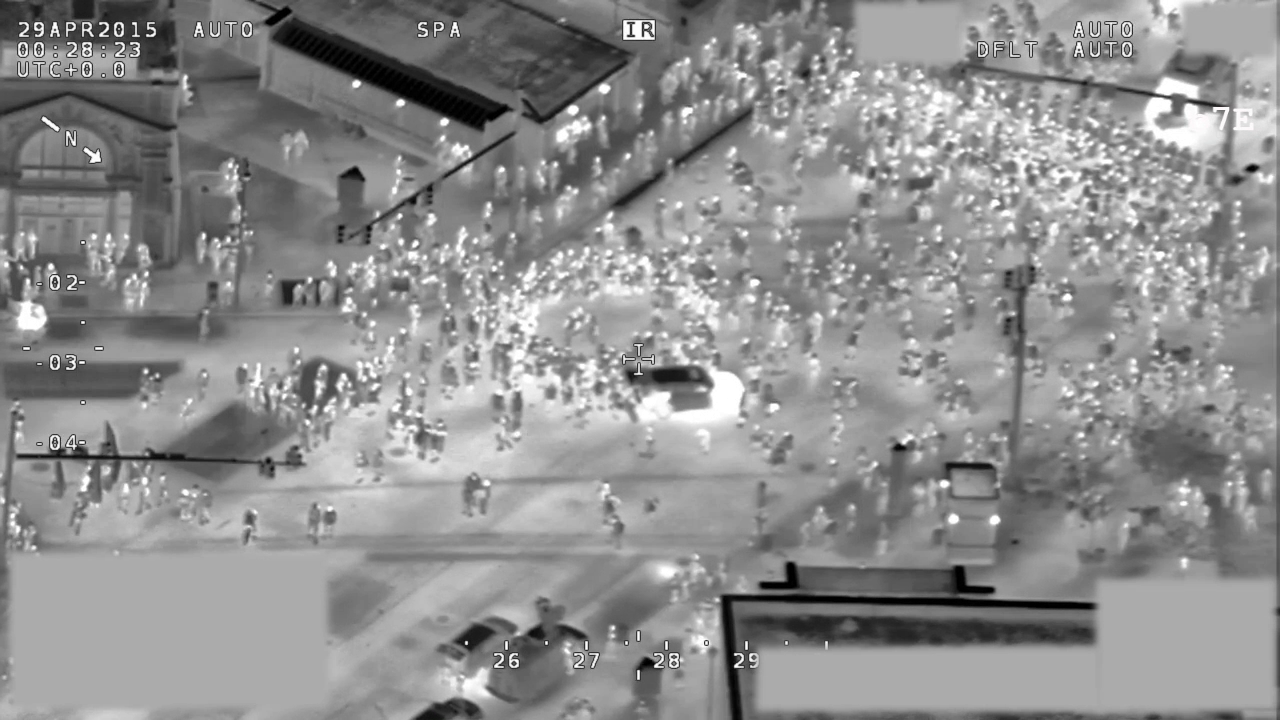vehicle: (483, 582, 602, 712), (1132, 42, 1245, 150), (617, 360, 752, 423), (426, 610, 522, 693)
